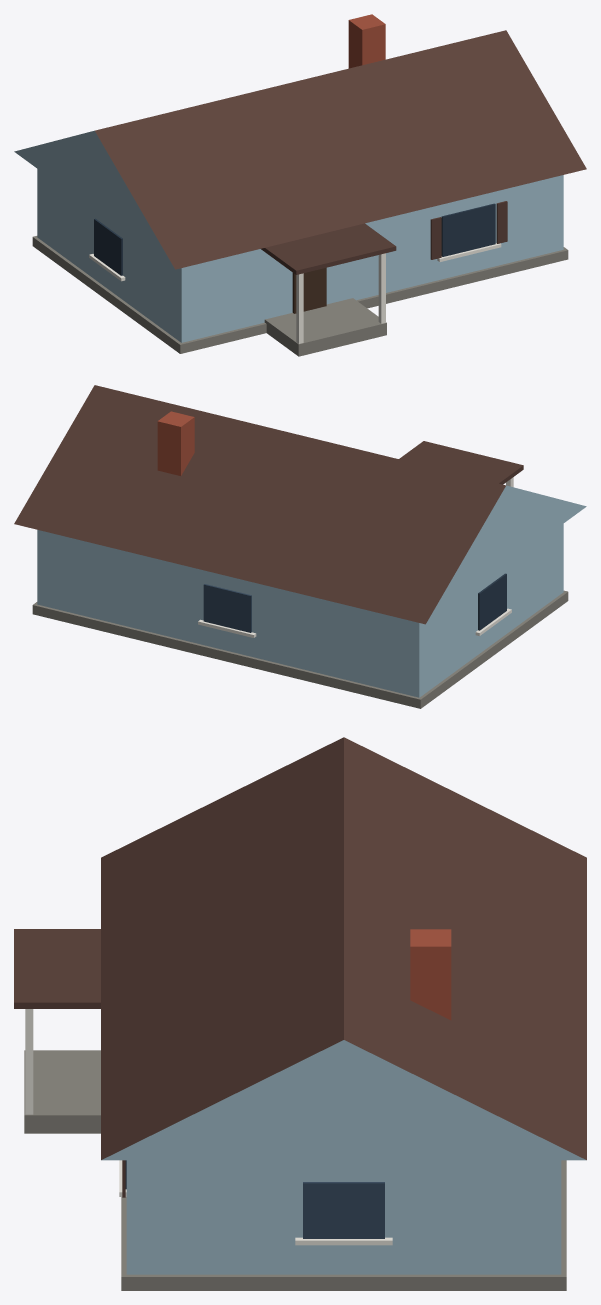
File: house_c.glb
3 renders of one model, top to bottom at view 1: azimuth 30°, elevation 25°; view 2: azimuth 150°, elevation 25°; view 3: azimuth 270°, elevation 25°, orthographic. The views are drawn at different scales.
Parts seen in each view (by area): view 1: house_c; view 2: house_c; view 3: house_c.
Part boxes in pixels (<box>): house_c: <box>14,14,586,356</box>; house_c: <box>14,385,586,708</box>; house_c: <box>14,737,586,1290</box>.
Size of what is drawn, in the model's own units: 14 by 6.05 by 11.2.
